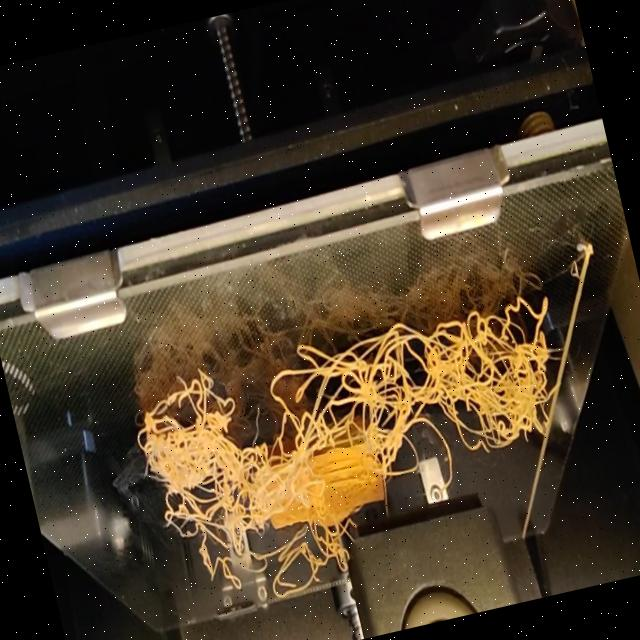spaghetti: (119, 294, 591, 567), (202, 521, 356, 624)
